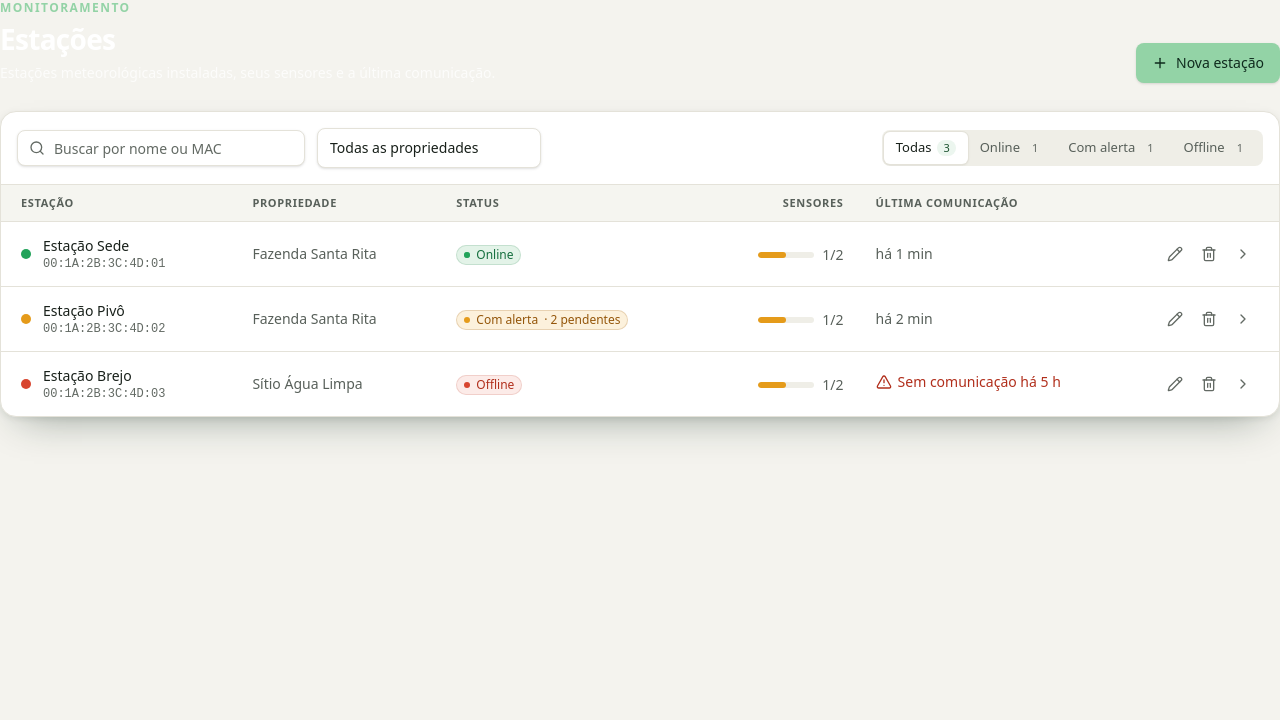
StationsPage › exclui após confirmar
Click the button named "Excluir Estação Brejo" at [1209, 384], box [1193,368,1225,400]
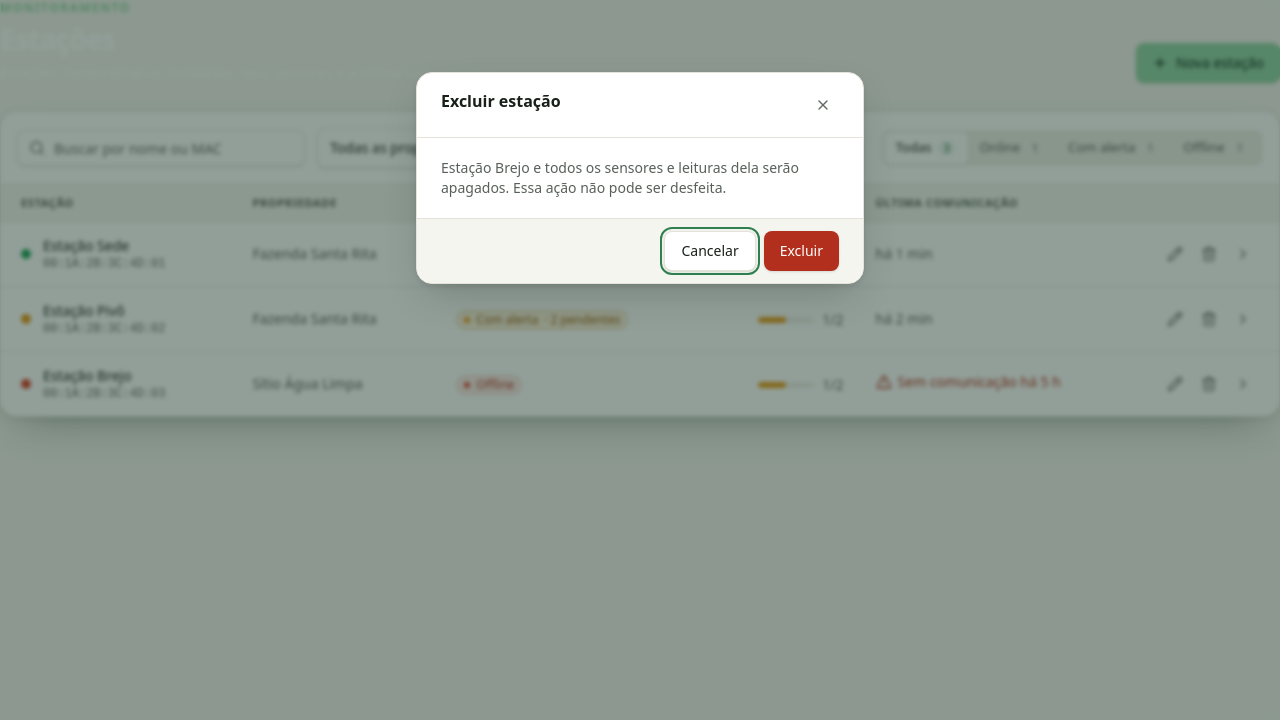
Click the button "Excluir" at [801, 251], box [764,231,839,271]
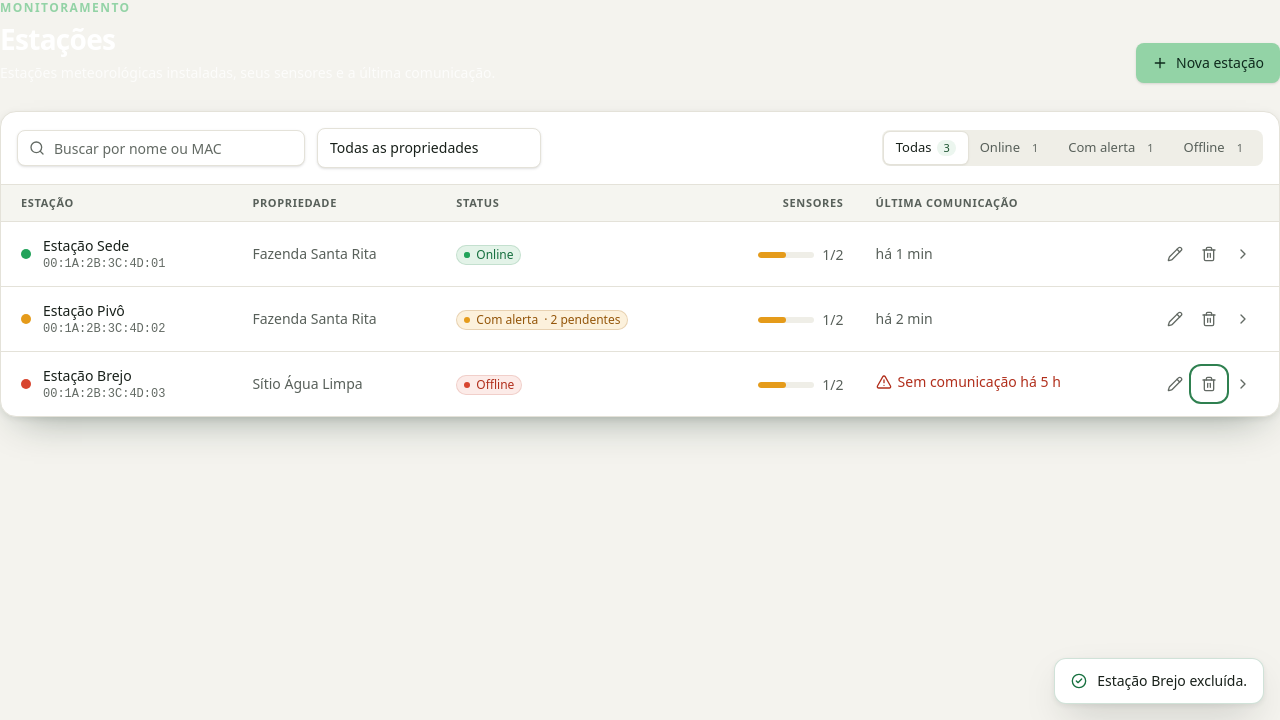
Expected: the text "Estação Brejo excluída." is shown, [1054,658,1264,704]
